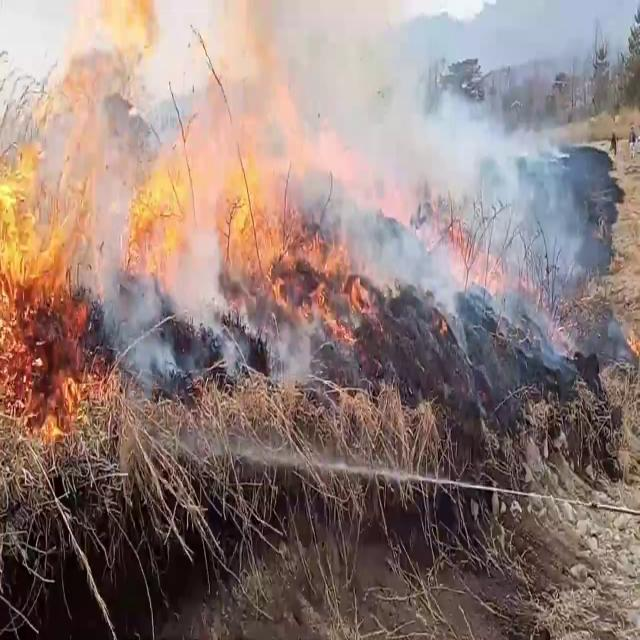Fire: (116, 24, 306, 292), (0, 108, 124, 457)
Smoke: (287, 1, 606, 381)
